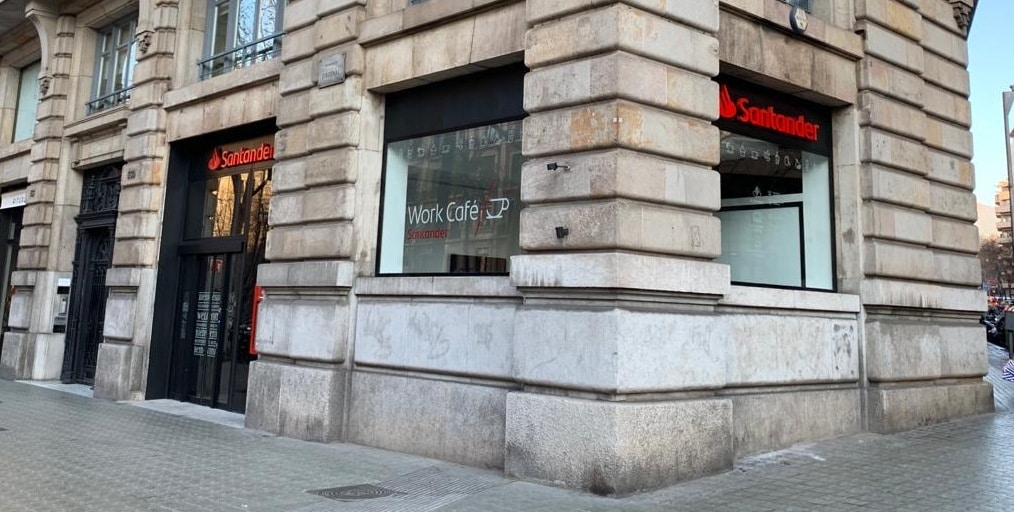Muro: (3, 1, 990, 412)
